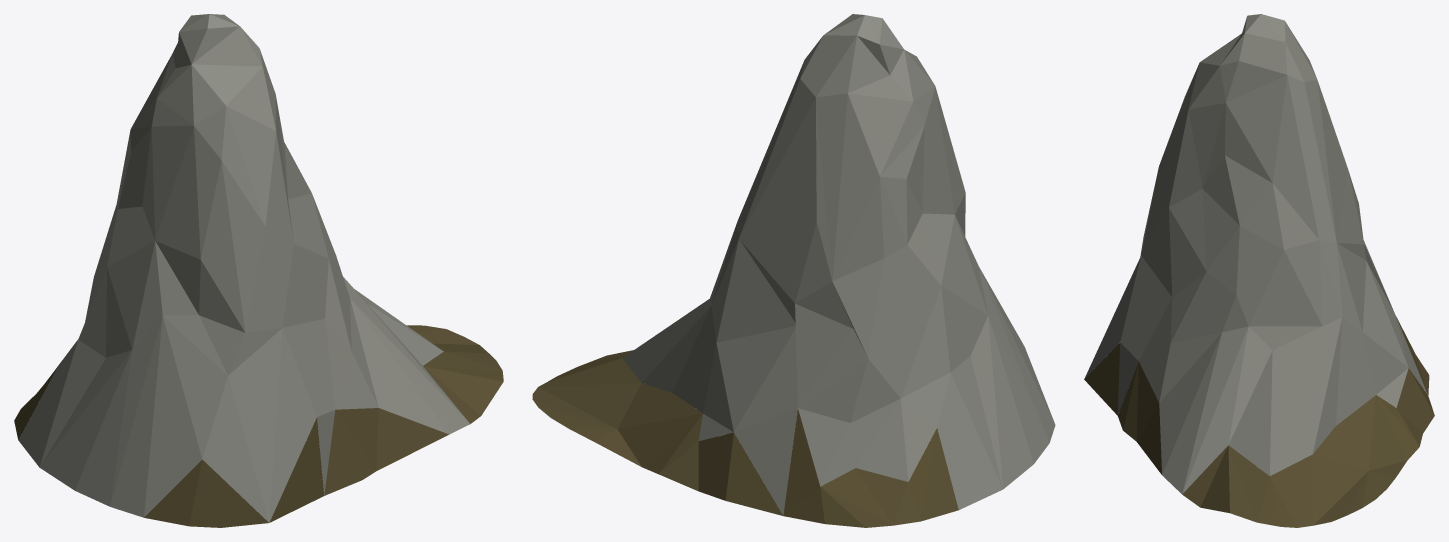
Rendered from Mountain_Single.glb.
3 renders of one model, left to right at view 1: azimuth 30°, elevation 25°; view 2: azimuth 150°, elevation 25°; view 3: azimuth 270°, elevation 25°, orthographic. The views are drawn at different scales.
Parts seen in each view (by area): view 1: Mountain_Single; view 2: Mountain_Single; view 3: Mountain_Single.
Boxes of the visible parts, x1=… form: Mountain_Single: x1=14, y1=14, x2=503, y2=527; Mountain_Single: x1=532, y1=14, x2=1055, y2=527; Mountain_Single: x1=1084, y1=14, x2=1434, y2=527.
Size of the model in its own units: 1.5 by 1.37 by 1.12.
